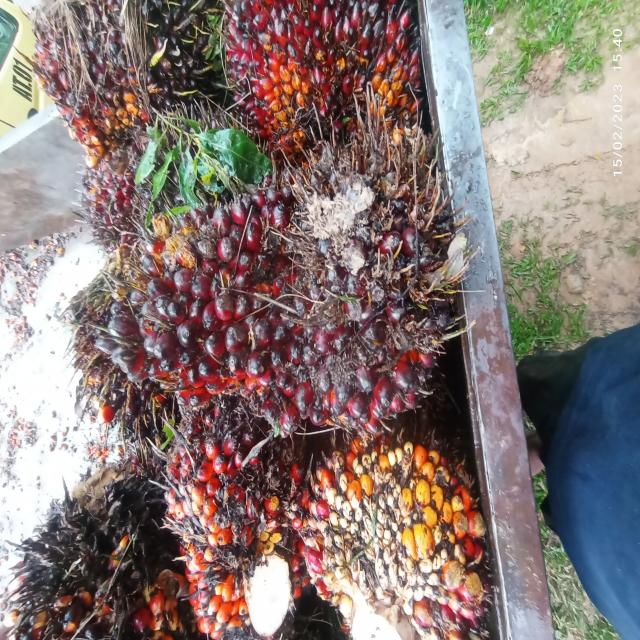fraksi 1: (75, 132, 512, 480), (13, 0, 229, 145)
fraksi 3: (112, 384, 336, 640), (279, 408, 526, 640), (225, 0, 423, 174)
